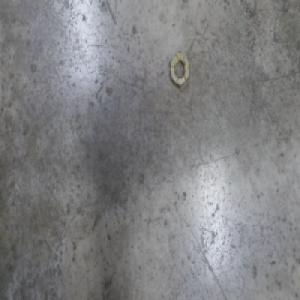Nut: (168, 49, 189, 89)
